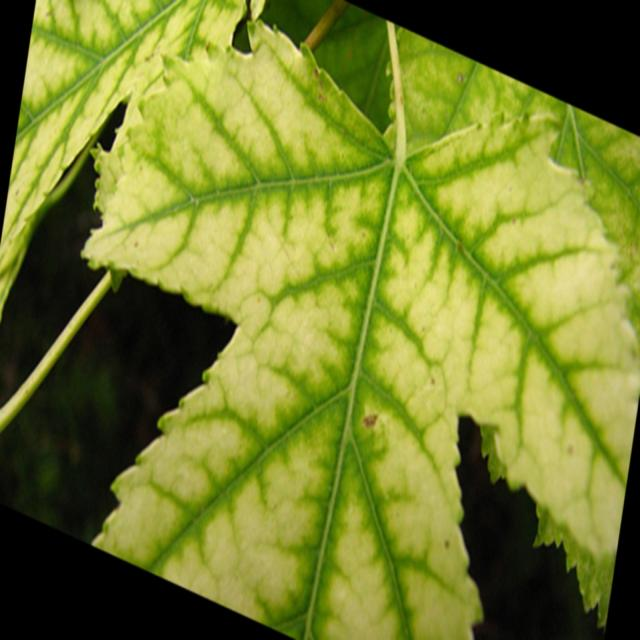Chlorosis: (12, 6, 640, 594)
